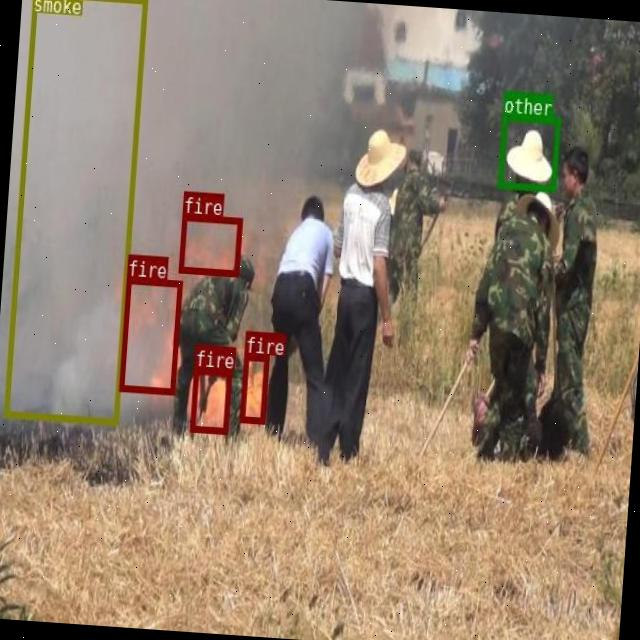fire: (118, 275, 182, 393), (177, 213, 242, 274), (189, 367, 231, 432), (238, 352, 268, 422)
smoke: (2, 0, 146, 423)
